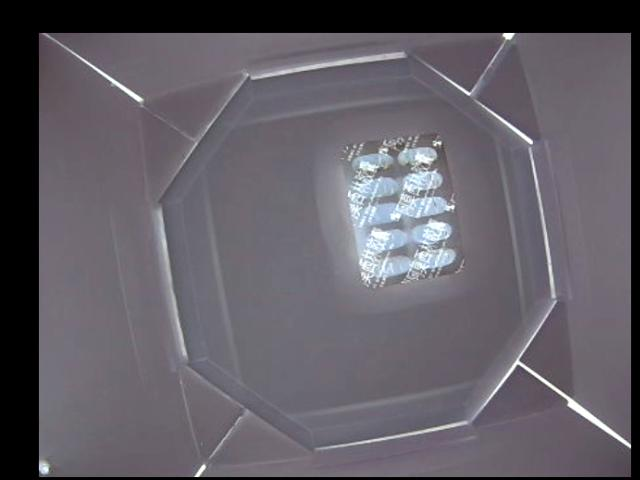Medicine: (340, 132, 467, 288)
